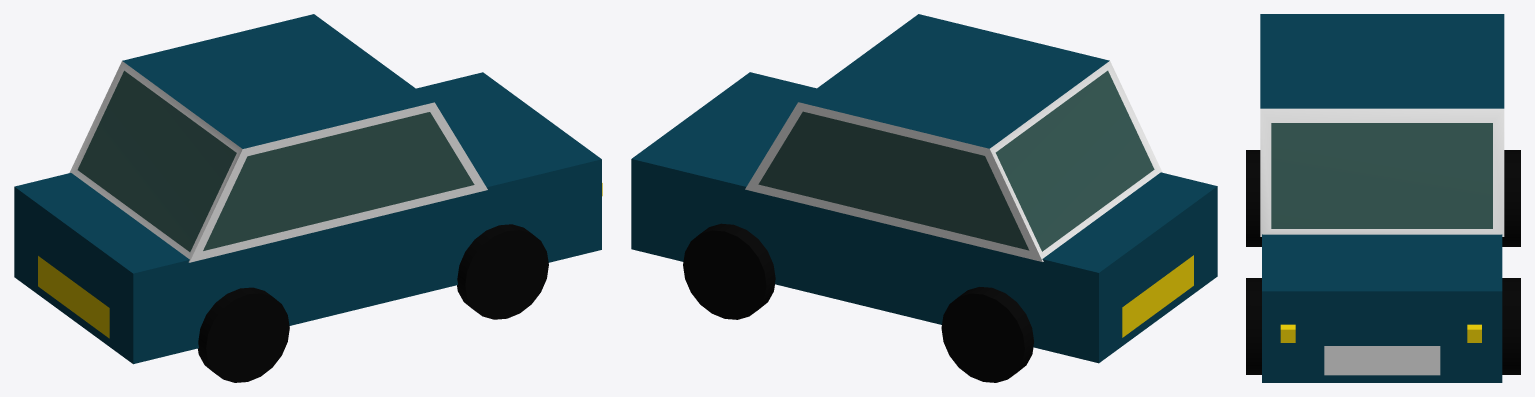
File: Blue_Car.obj
3 views of the same model, side by side, from view 1: azimuth 30°, elevation 25°; view 2: azimuth 150°, elevation 25°; view 3: azimuth 270°, elevation 25° (orthographic).
Visible parts, largest first — view 1: pCube89; view 2: pCube89; view 3: pCube89.
Boxes of the visible parts, box(x1,y1,x2,y2) form: pCube89: box(14, 14, 602, 382); pCube89: box(631, 14, 1217, 382); pCube89: box(1246, 14, 1520, 382).
Size of the model in its own units: 6.02 by 2.73 by 2.96.
